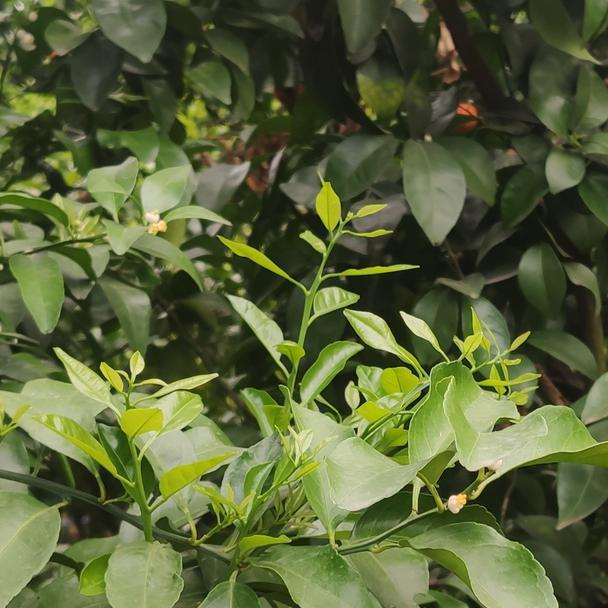shoot: (234, 190, 417, 428), (67, 349, 207, 519), (364, 306, 538, 415)
